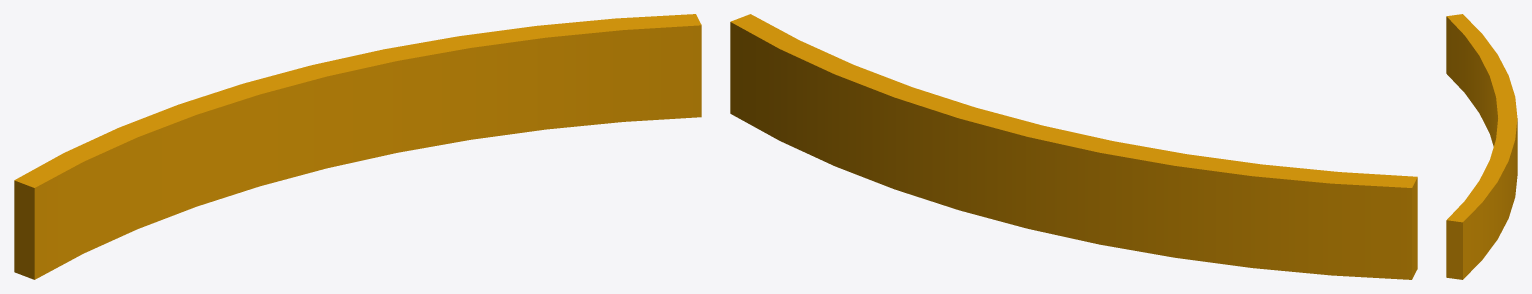
Rendered from Frieze_03_A.fbx.
3 views of the same model, side by side, from view 1: azimuth 30°, elevation 25°; view 2: azimuth 150°, elevation 25°; view 3: azimuth 270°, elevation 25° (orthographic). The views are drawn at different scales.
Parts seen in each view (by area): view 1: Frieze_03_A; view 2: Frieze_03_A; view 3: Frieze_03_A.
Boxes of the visible parts, <box> form: Frieze_03_A: <box>14,14,701,279</box>; Frieze_03_A: <box>730,14,1417,279</box>; Frieze_03_A: <box>1446,14,1517,279</box>.
Bounding box in the file's own units: 413 × 53.14 × 59.41.
